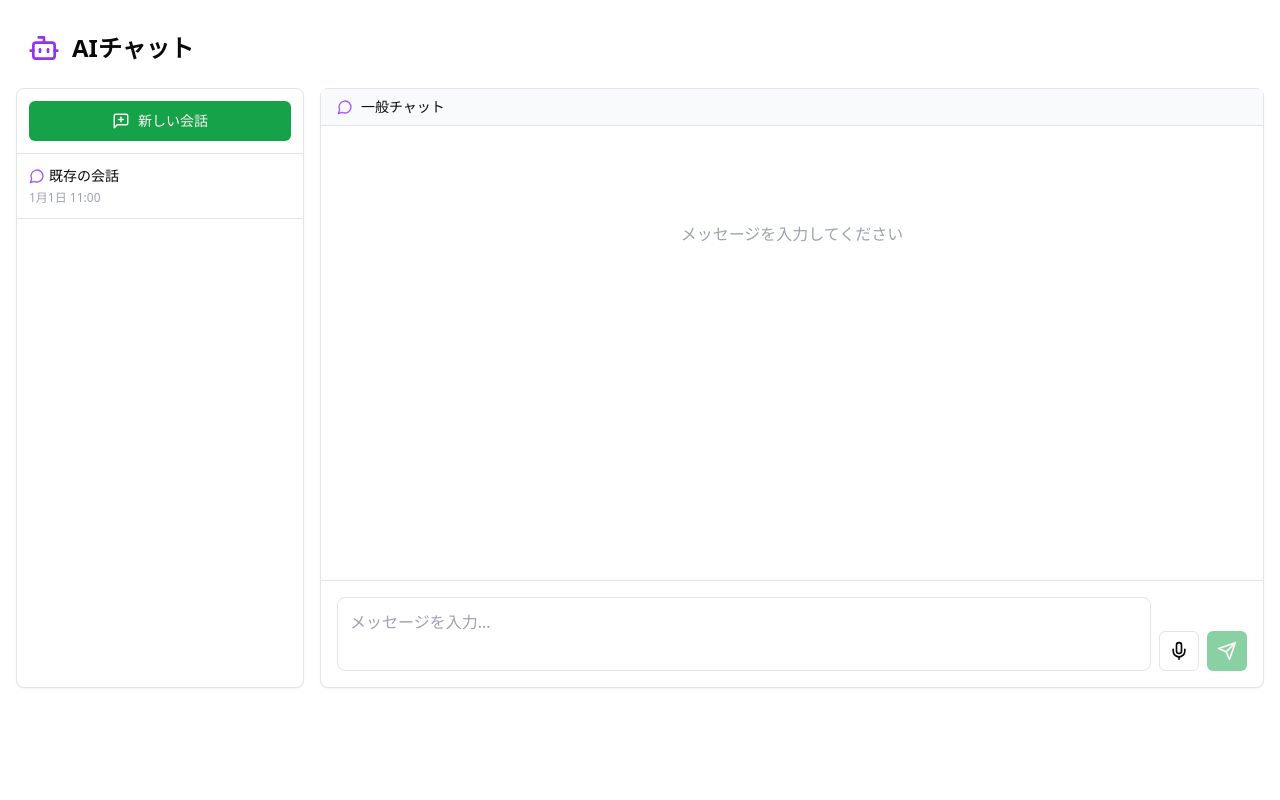
it: GeminiChatPage › 会話選択 › should load messages when selecting a conversation
The image size is (1280, 800).
Click the text "既存の会話" at (84, 176), box [49, 166, 119, 186]
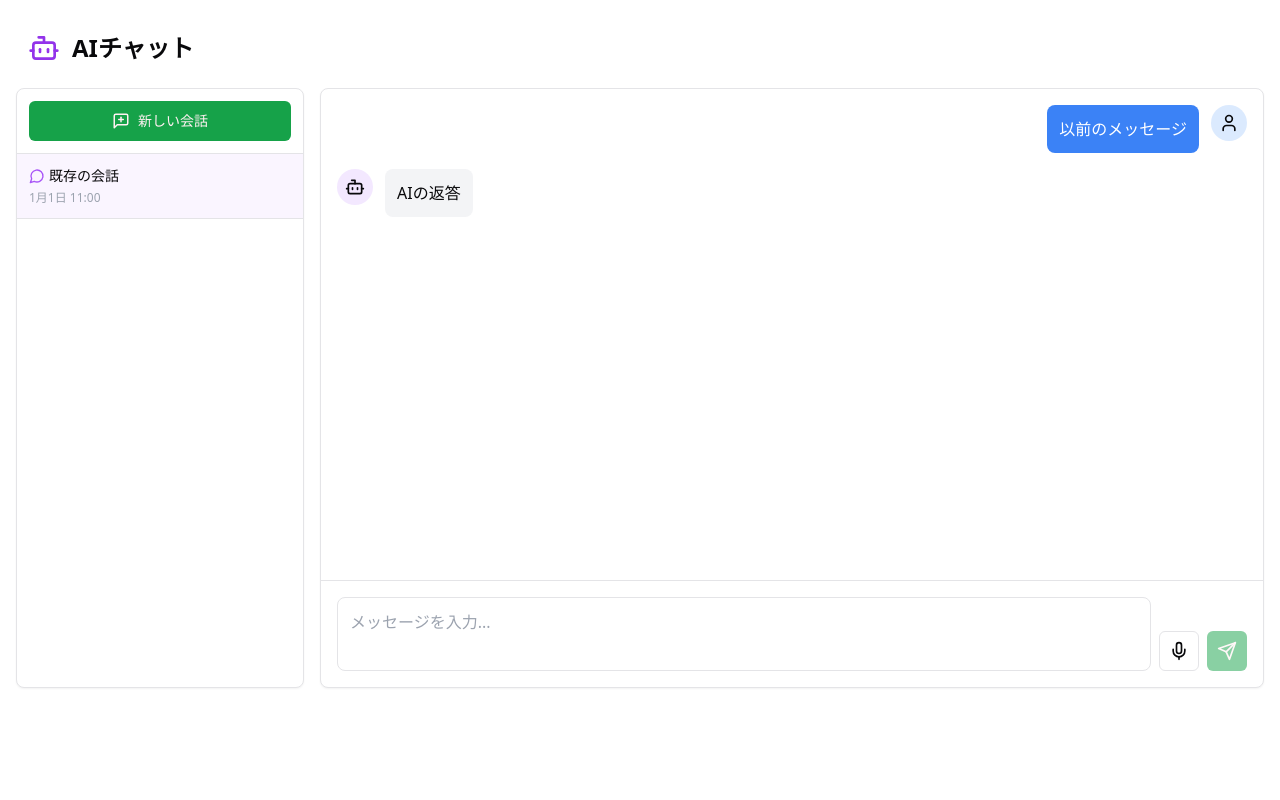
Check: the text "以前のメッセージ" is shown, box [1059, 117, 1187, 141]
Check: the text "AIの返答" is shown, box [397, 181, 461, 205]
